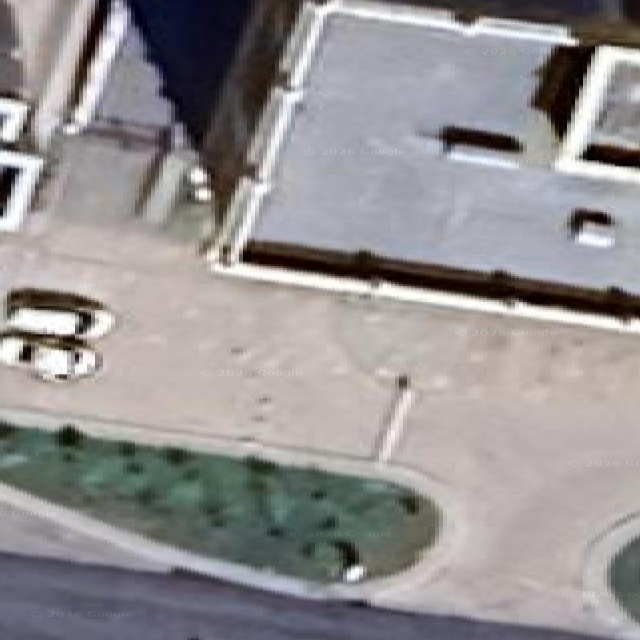car: (4, 288, 112, 339), (0, 331, 100, 380), (568, 209, 615, 247)
